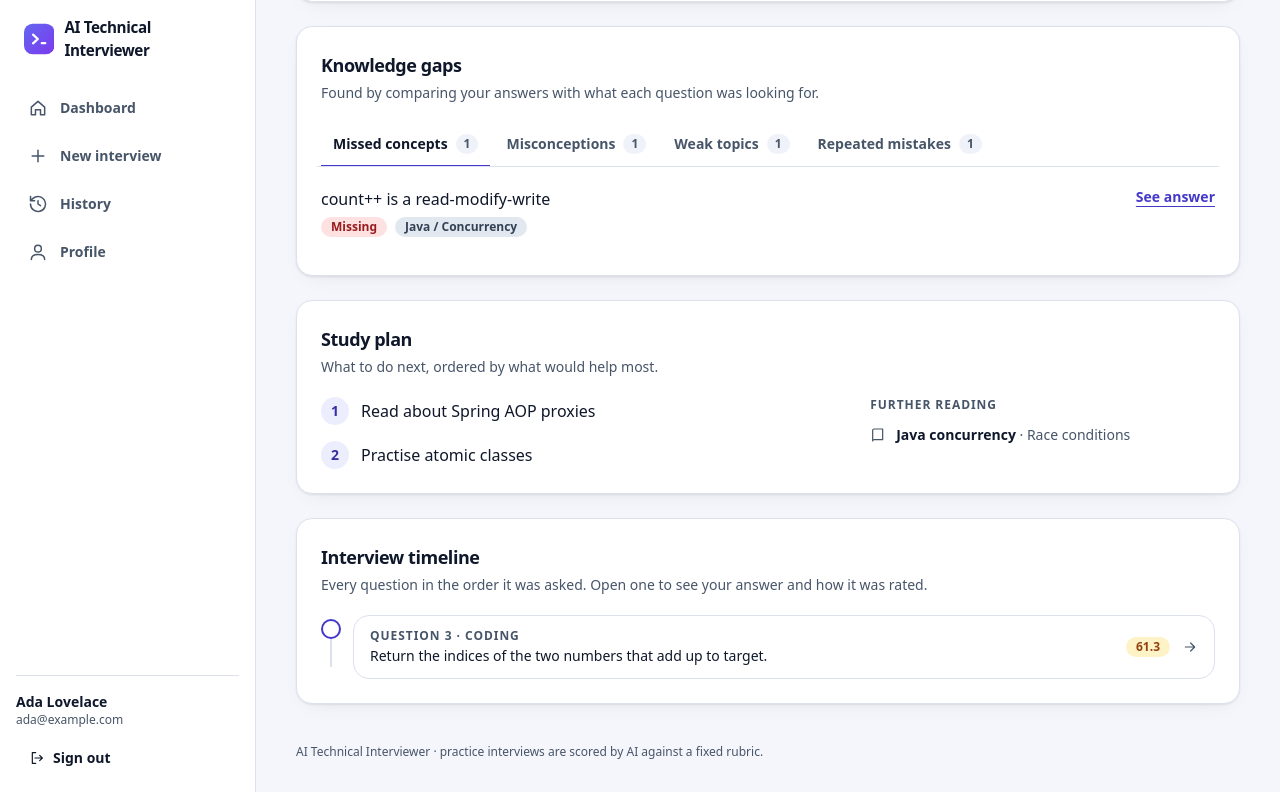
Test: ResultsPage: a ready report › explains the score of a coding solution: tests, how each rating was decided, and the complexity
The width and height of the screenshot is (1280, 792).
(page scrolled)
Click the text "Question 3 · Coding" at (445, 636), box [370,627,520,644]
(page scrolled)
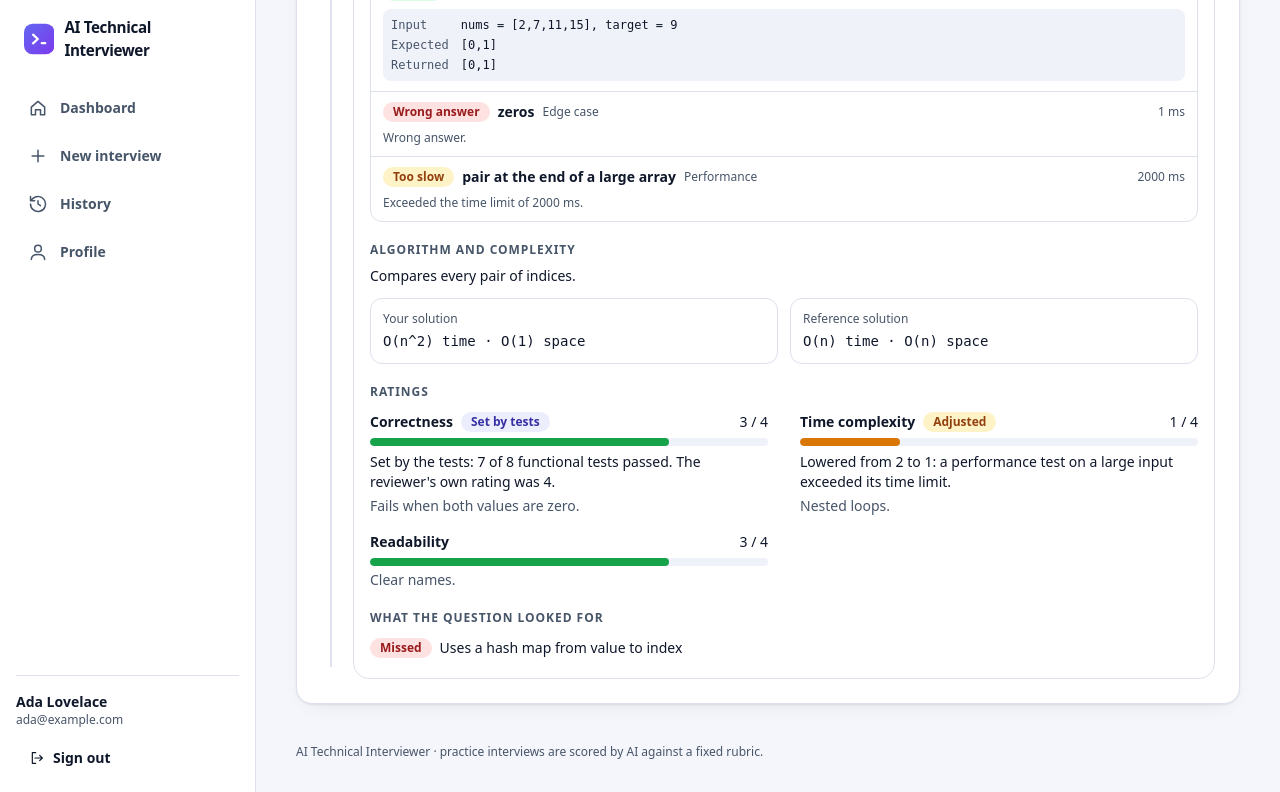
Check: the text "Too slow" is shown, box [383,167,454,187]
Check: the text "zeros" is shown, box [498,102,534,122]
Check: the text "Set by tests" is shown, box [461,412,550,432]
